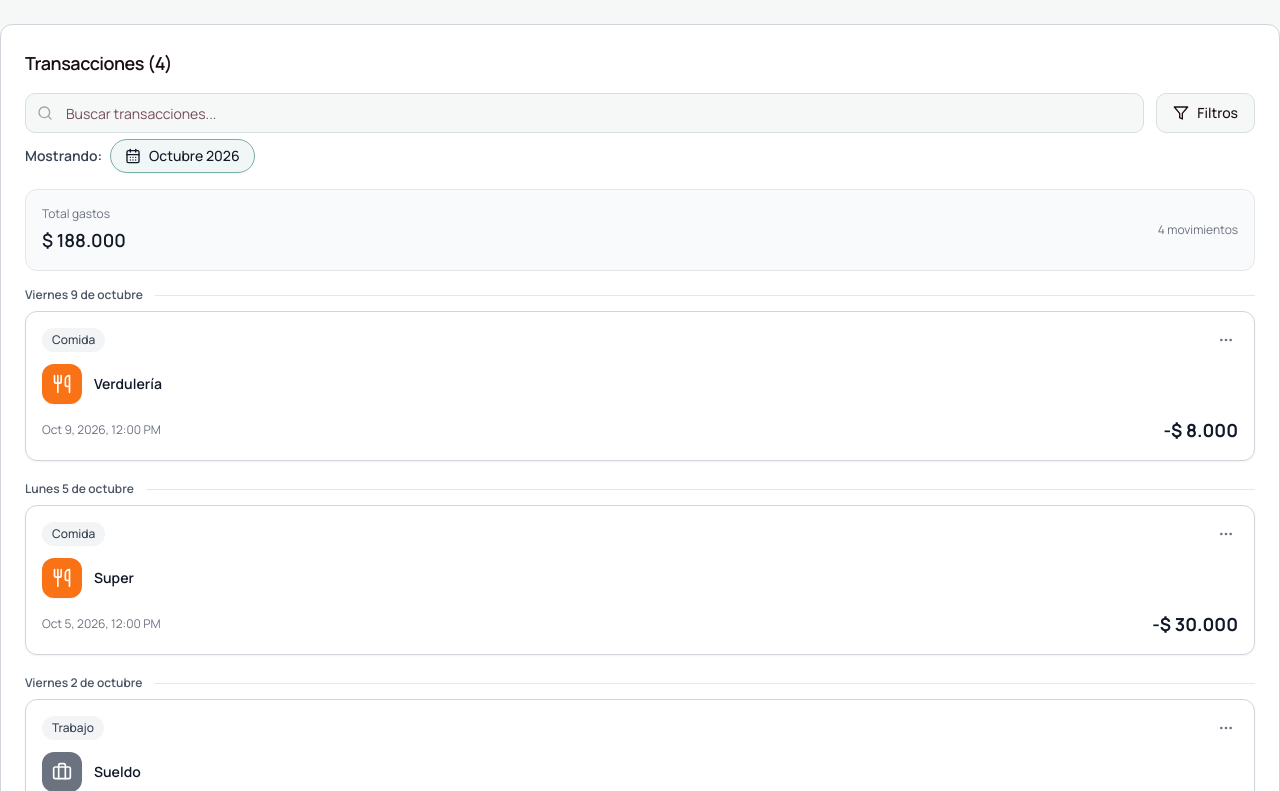
Historial › category filter keeps that category, totals it, and resets the type filter
Click the button "Filtros". click: (1206, 113)
box: x1=1156 y1=93 x2=1255 y2=133
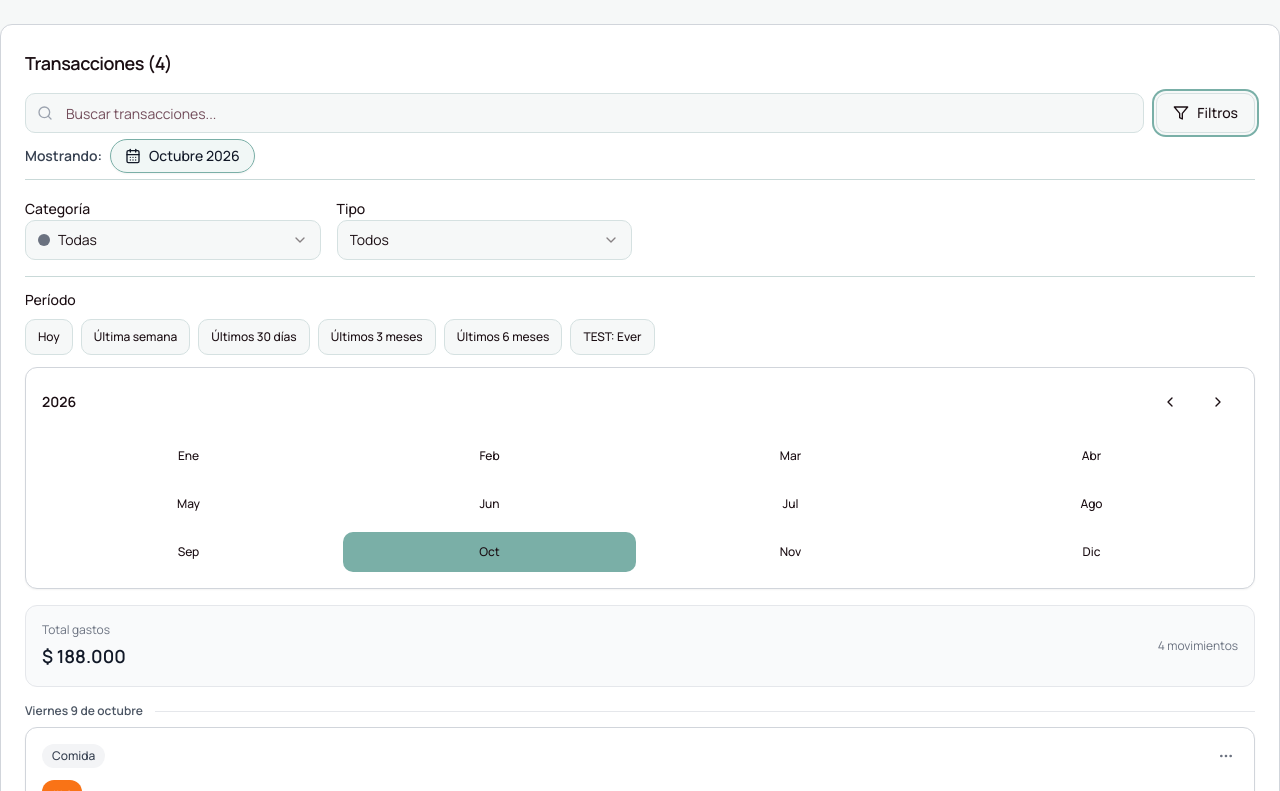
Click the dropdown labelled "Todos". click: (369, 240)
box: x1=336 y1=220 x2=632 y2=260
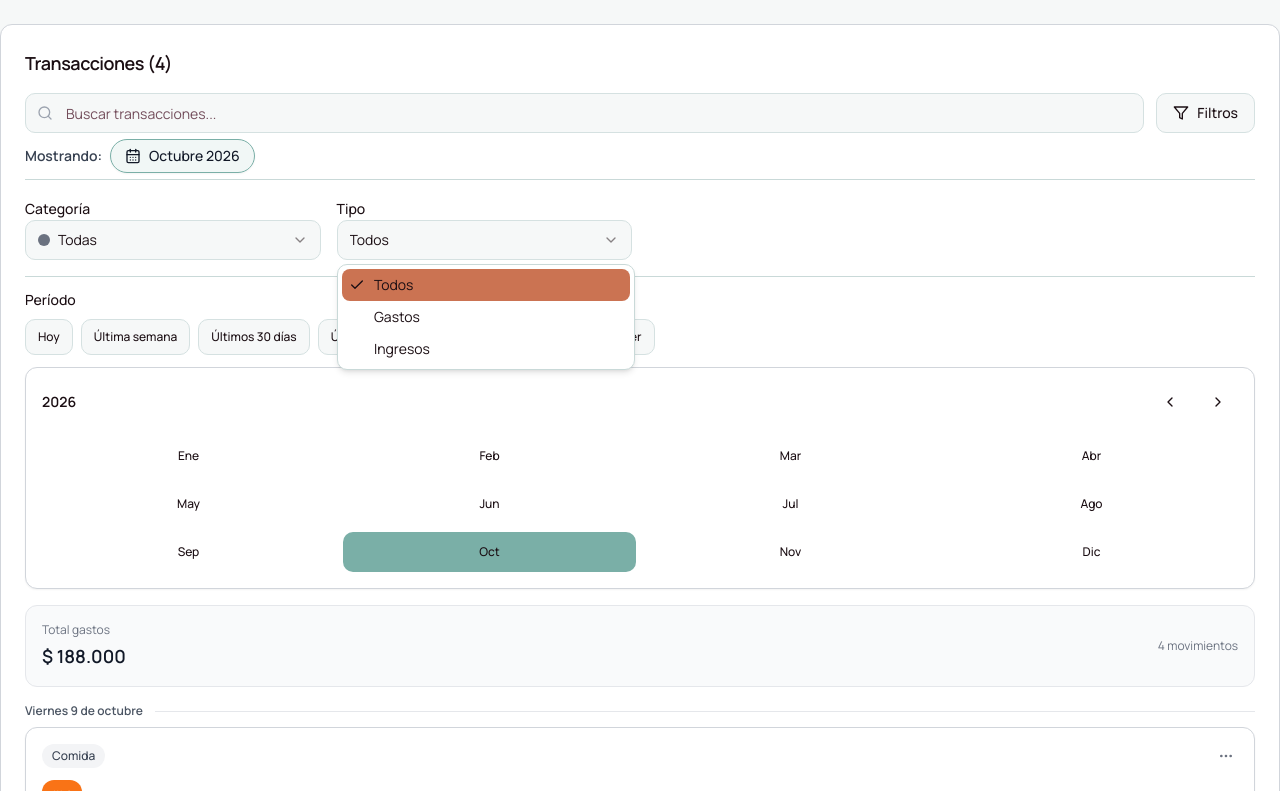
Click the option "Ingresos". click: (402, 348)
box: x1=374 y1=339 x2=430 y2=358
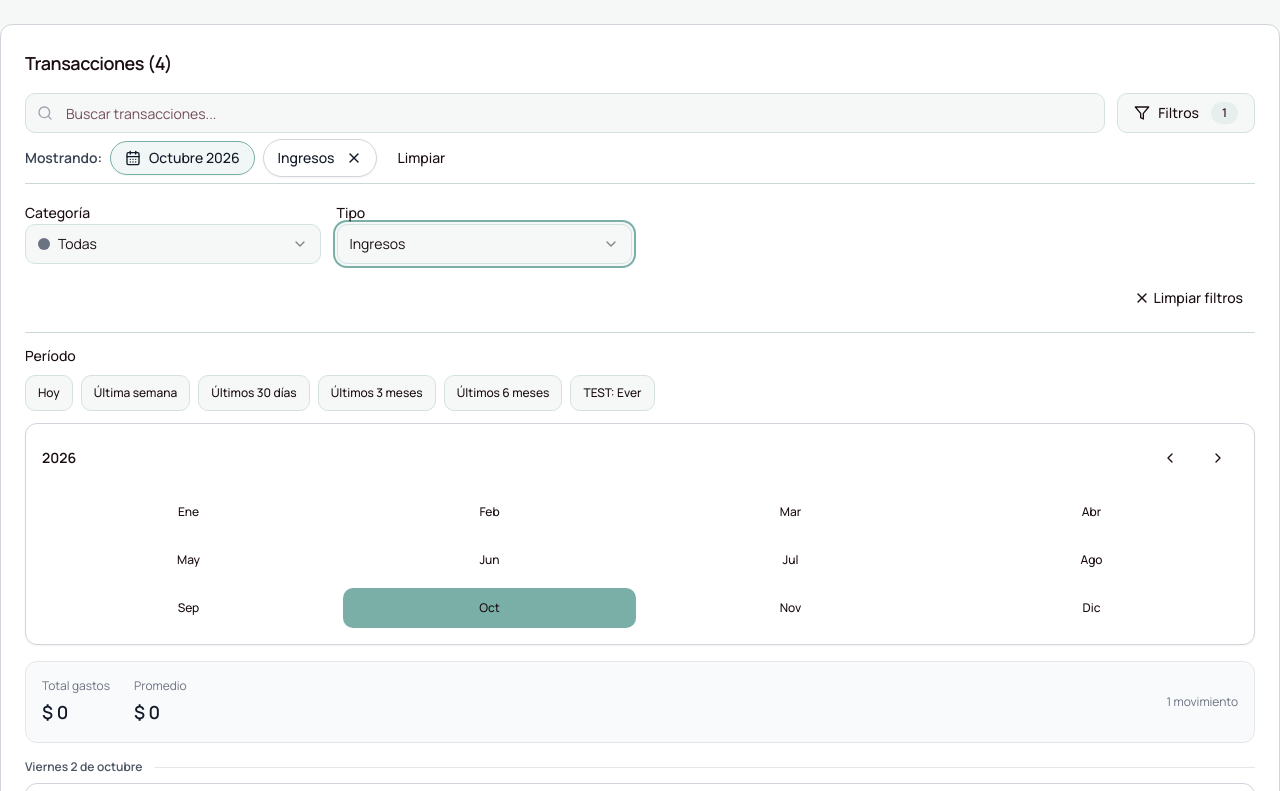
Click the dropdown labelled "Todas". click: (77, 244)
box: x1=25 y1=224 x2=320 y2=264
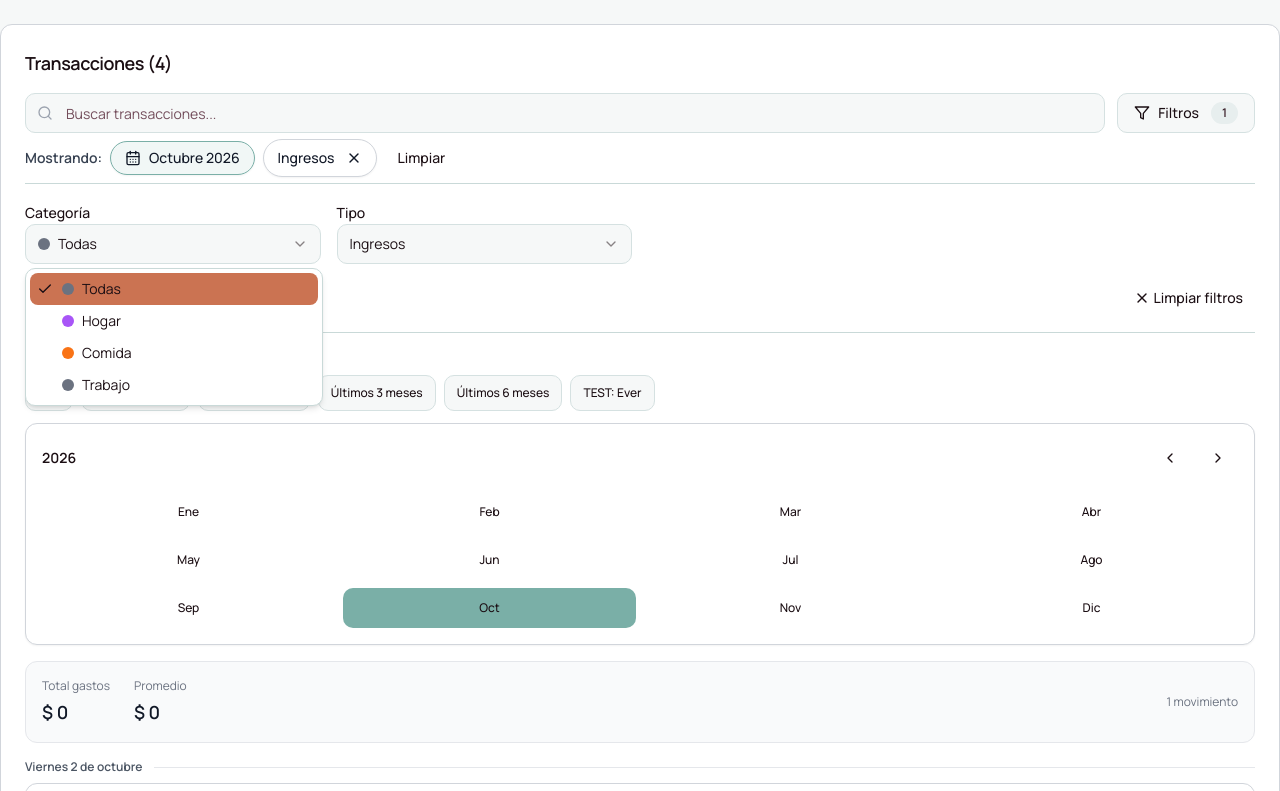
Click the option "Comida". click: (97, 352)
box: x1=62 y1=343 x2=132 y2=362
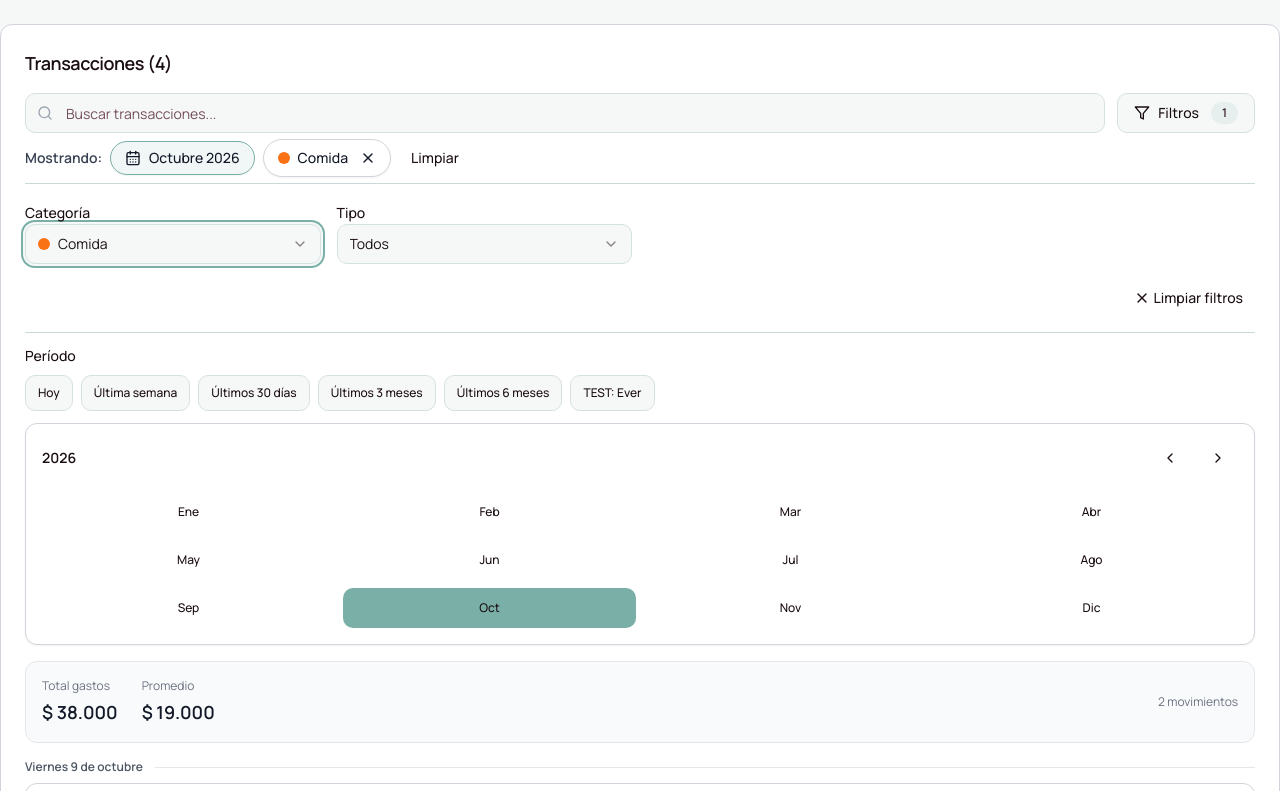
Now the text "Comida" is shown, box x1=298 y1=148 x2=348 y2=168
Now the text "Ingresos" is gone
